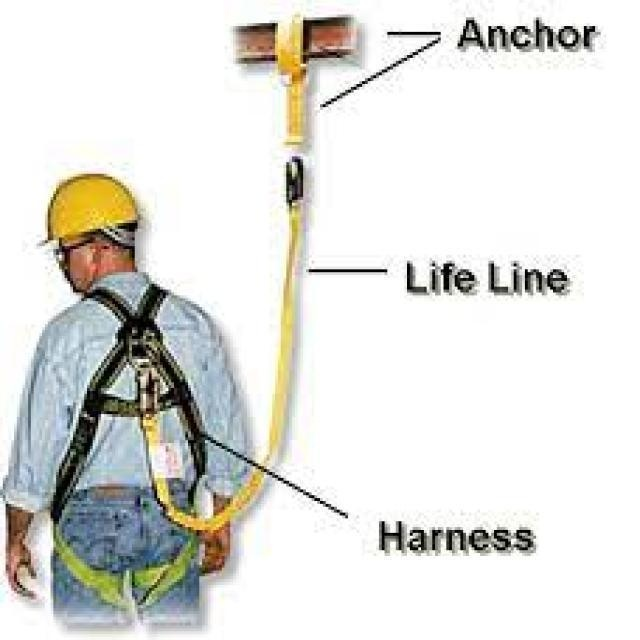Arnes_seguridad: (54, 274, 210, 534)
